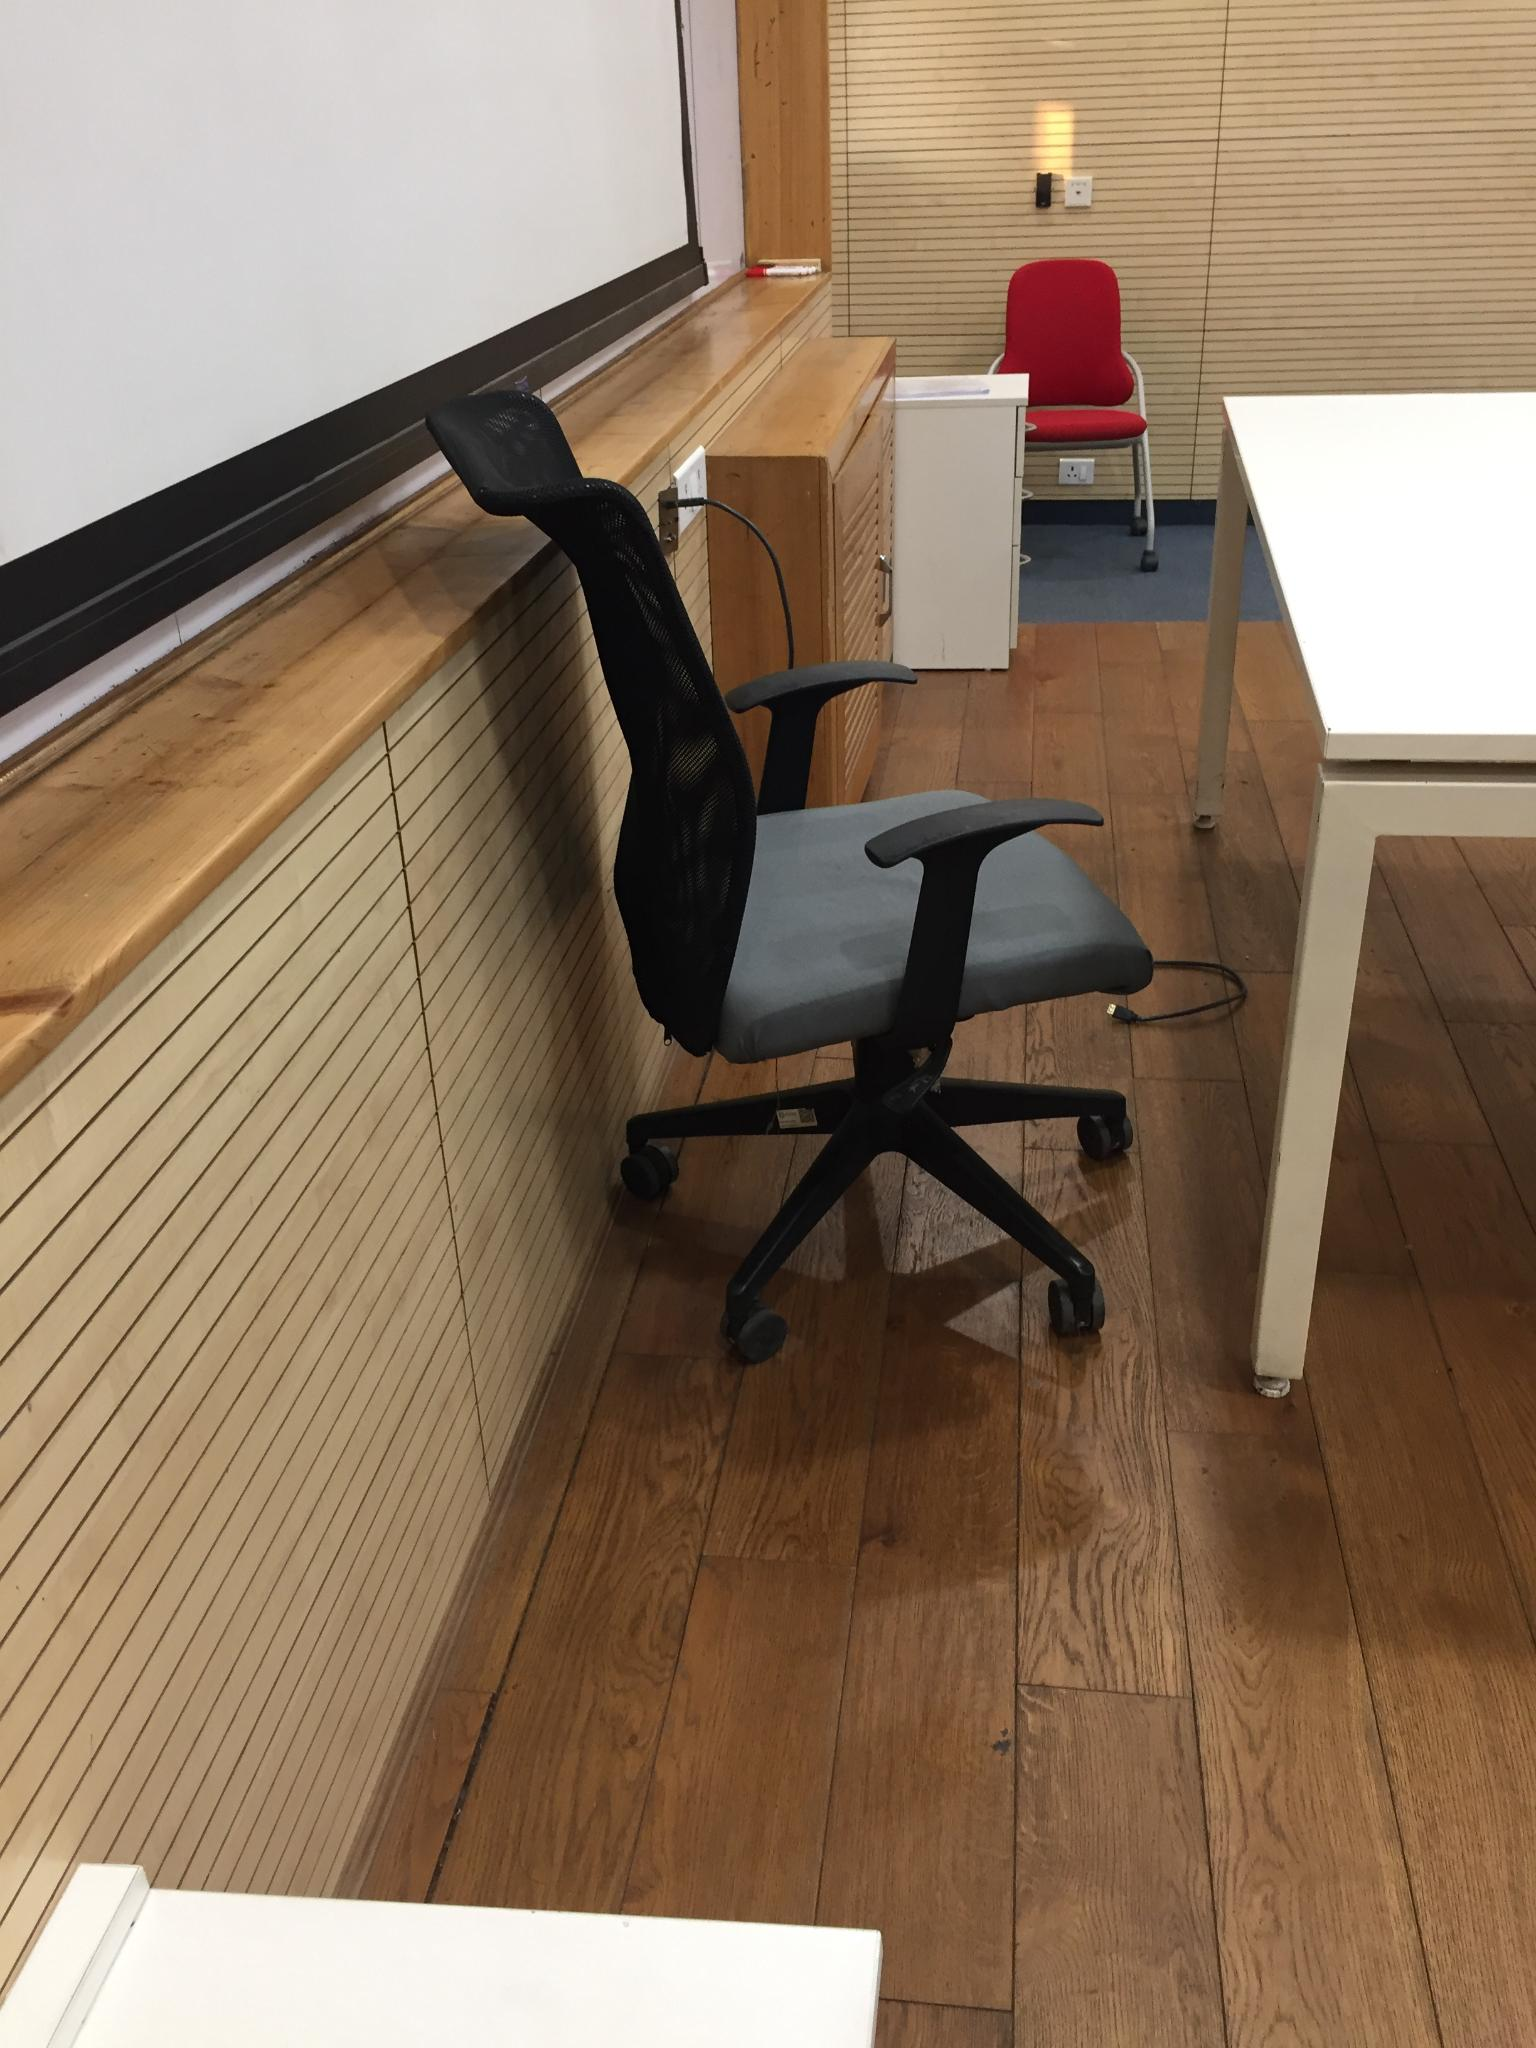chair: (424, 385, 1154, 1364), (987, 256, 1158, 571)
